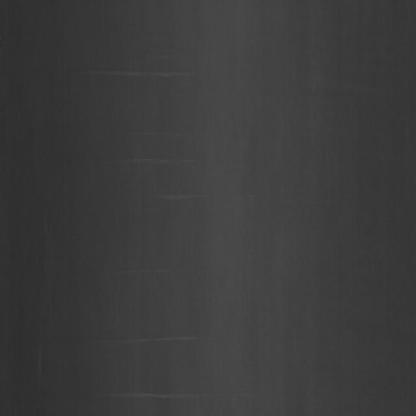waist_folding: (81, 29, 203, 368)
